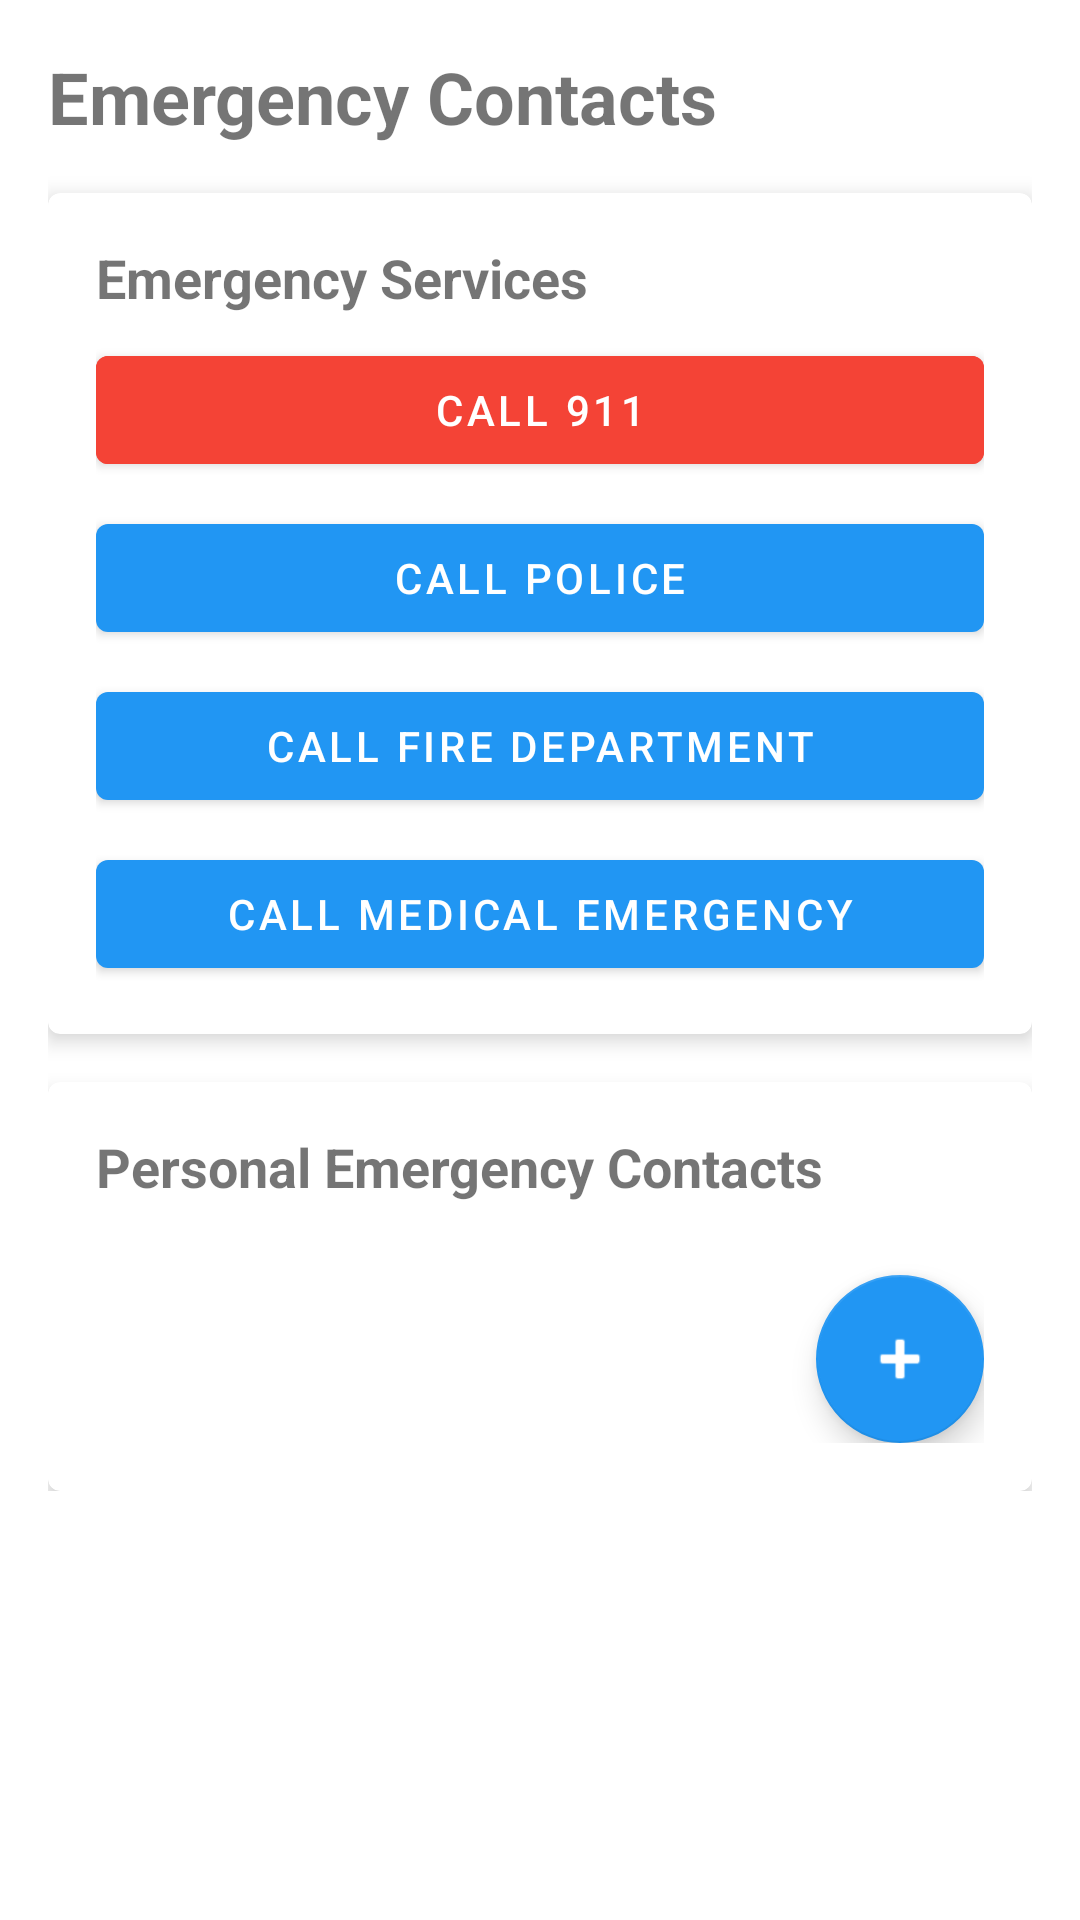

Screen size 1080*1920. Icon name, then its center in pixels as (x=x, y=y):
add: (x=900, y=1359)
